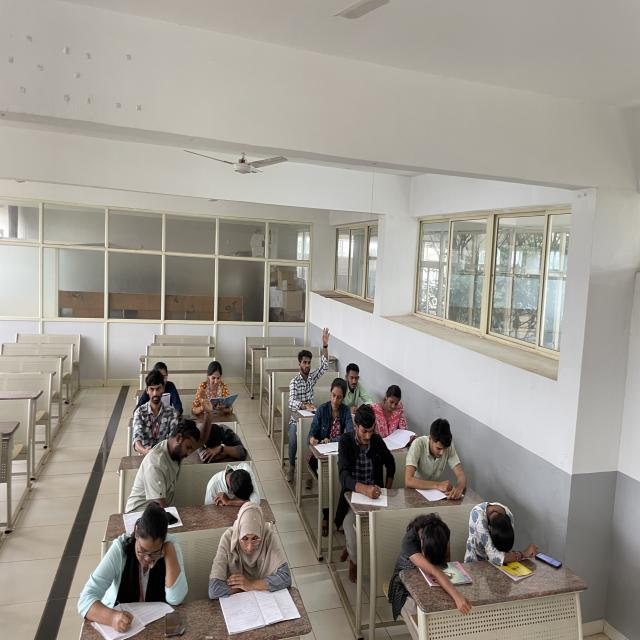Hand Rising: (287, 326, 337, 408)
Reading: (208, 508, 302, 620), (410, 409, 465, 497), (372, 384, 422, 448), (195, 362, 244, 416)
Sleeping: (464, 493, 539, 562), (395, 510, 462, 571), (201, 460, 267, 512), (201, 418, 255, 462)
Writing: (77, 510, 189, 635), (336, 408, 394, 502), (318, 378, 354, 446), (341, 364, 375, 411)
